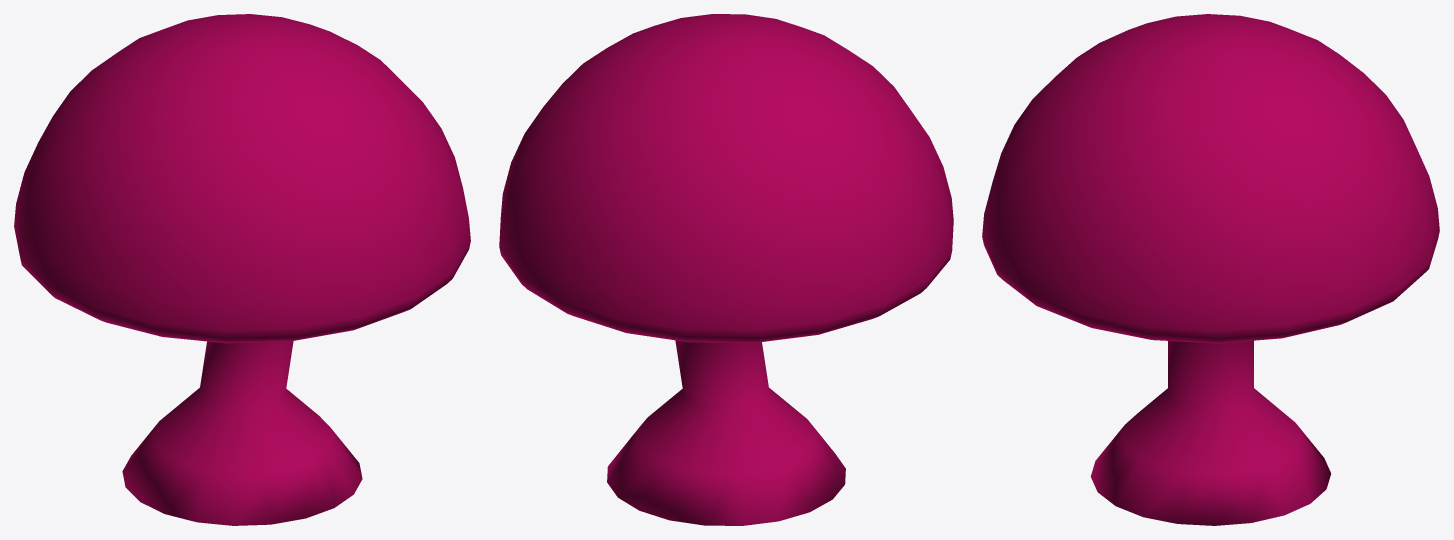
The model's file is mushroomdome.fbx.
3 views of the same model, side by side, from view 1: azimuth 30°, elevation 25°; view 2: azimuth 150°, elevation 25°; view 3: azimuth 270°, elevation 25° (orthographic).
Visible parts, largest first — view 1: pSphere1; view 2: pSphere1; view 3: pSphere1.
Part boxes in pixels (<box>): pSphere1: <box>14,14,470,525</box>; pSphere1: <box>499,14,953,525</box>; pSphere1: <box>982,14,1439,525</box>.
Size of the model in its own units: 548 by 581 by 548.
